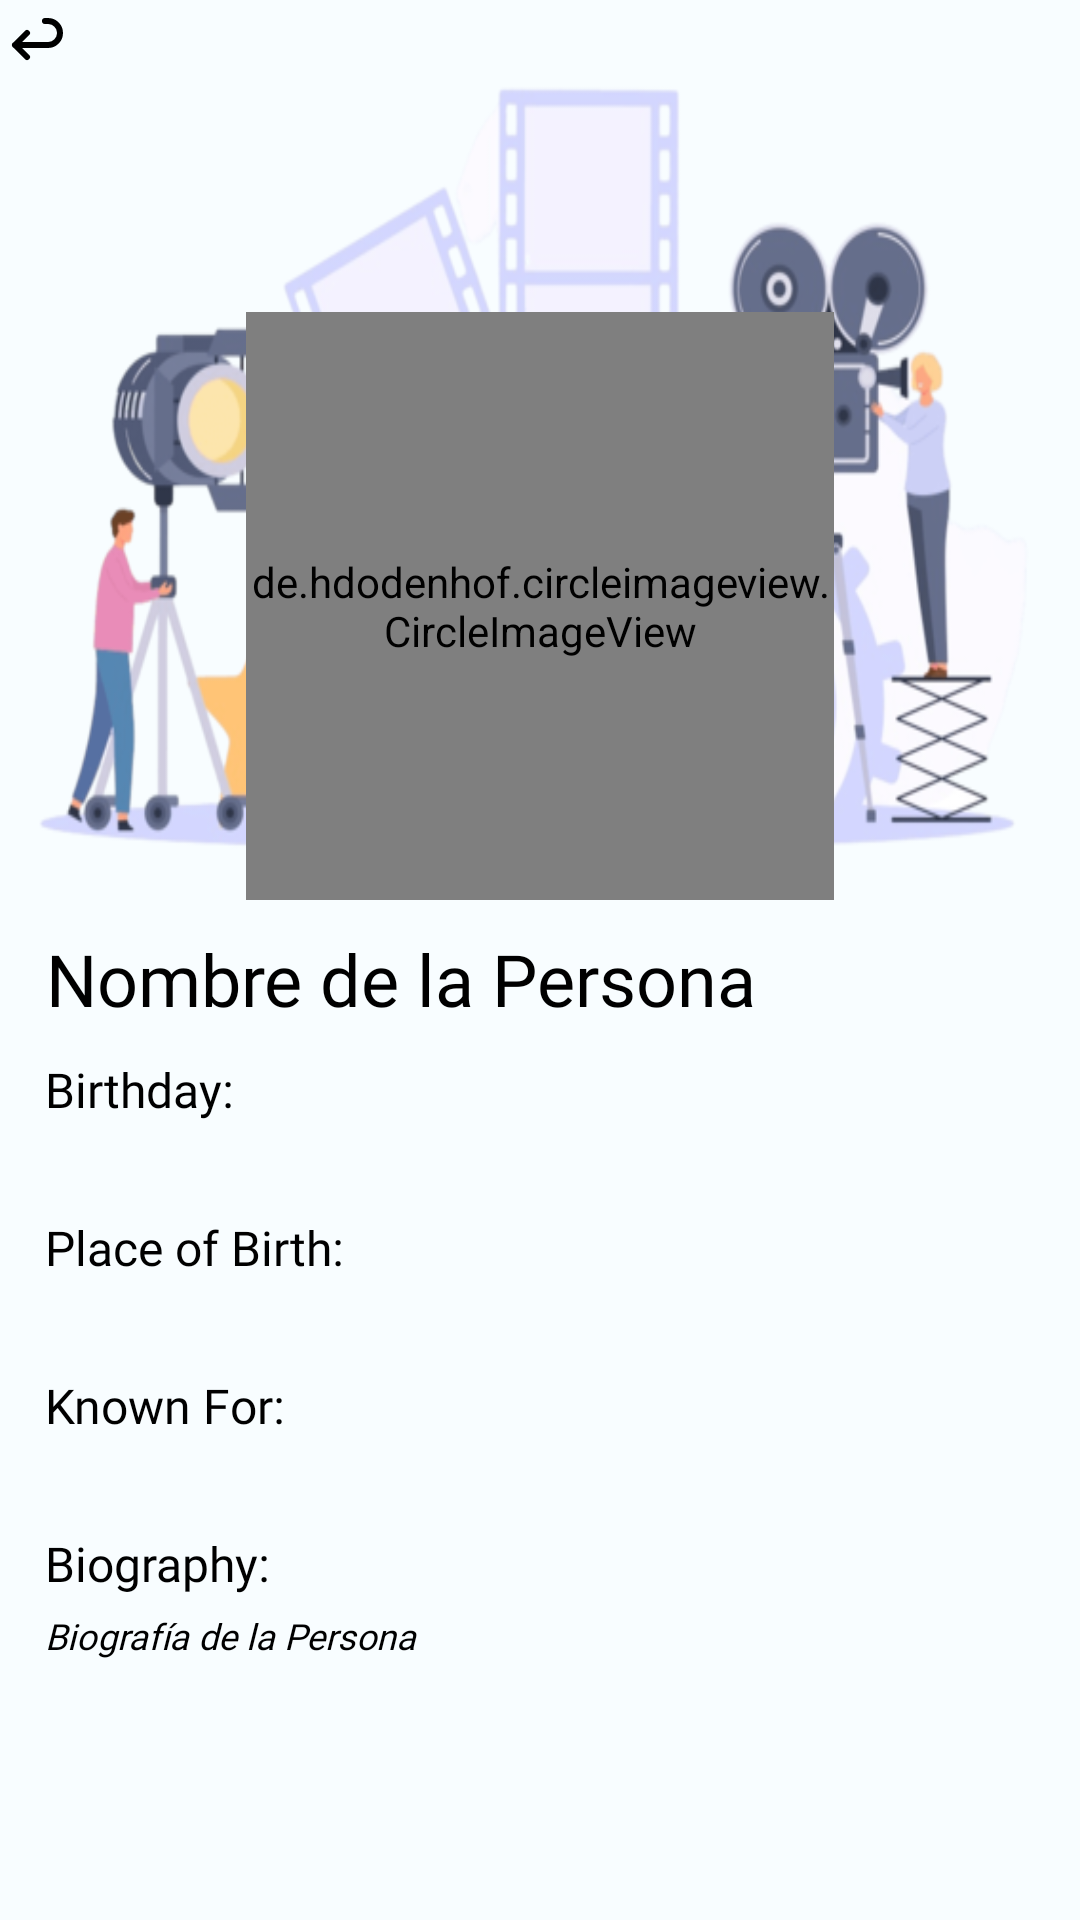

Icon click points for this 1080*1920 phone screenshot, format (x=x, y=y):
back arrow: (x=37, y=39)
